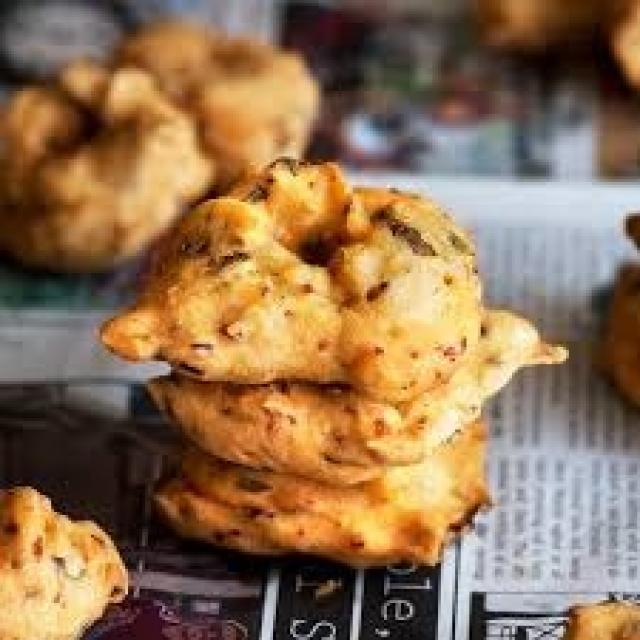medu vadai: (90, 152, 525, 570)
